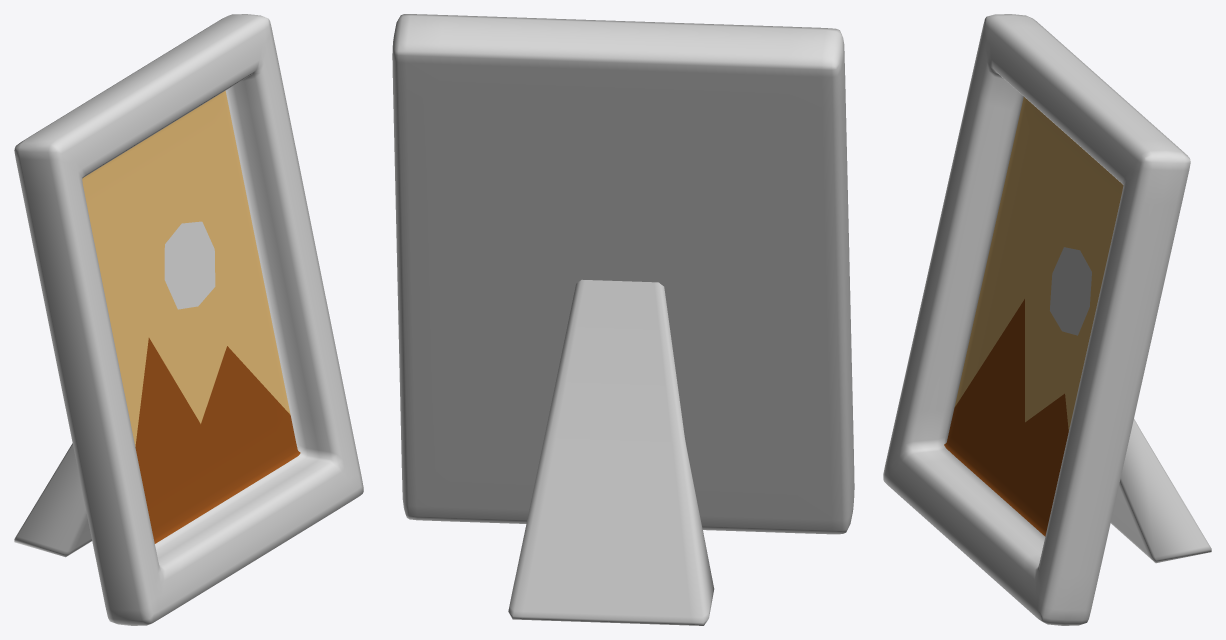
File: Small Photo.fbx
3 renders of one model, left to right at view 1: azimuth 30°, elevation 25°; view 2: azimuth 150°, elevation 25°; view 3: azimuth 270°, elevation 25°, orthographic. The views are drawn at different scales.
Parts seen in each view (by area): view 1: Cube.015; view 2: Cube.015; view 3: Cube.015.
Part boxes in pixels (x1,y1,x2,y2): Cube.015: (14,14,363,625); Cube.015: (392,14,854,625); Cube.015: (883,14,1211,625).
Bounding box in the file's own units: 44.74 × 55.56 × 36.07.
